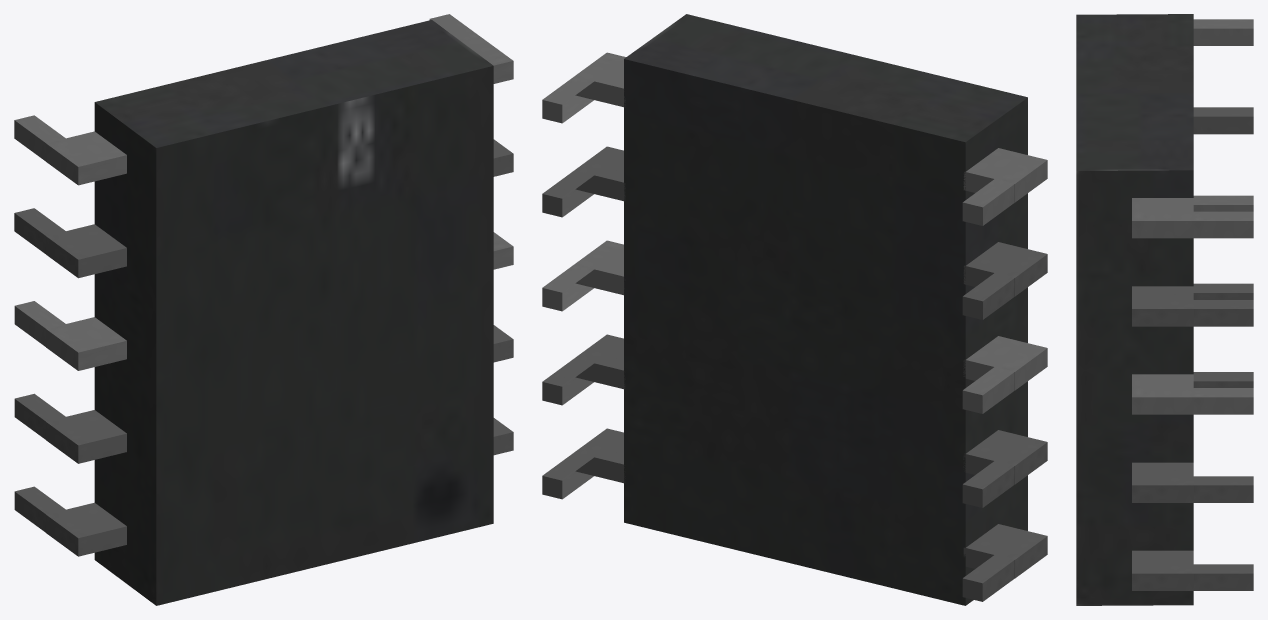
File: ram_chip_bottom.obj
3 renders of one model, left to right at view 1: azimuth 30°, elevation 25°; view 2: azimuth 150°, elevation 25°; view 3: azimuth 270°, elevation 25°, orthographic. The views are drawn at different scales.
Parts seen in each view (by area): view 1: Object12; view 2: Object12; view 3: Object12.
Part boxes in pixels (x1,y1,x2,y2): Object12: [14, 14, 513, 605]; Object12: [542, 14, 1047, 605]; Object12: [1076, 14, 1253, 605].
Bounding box in the file's own units: 19.93 × 20.07 × 7.4.
1 material, 1 textured.
